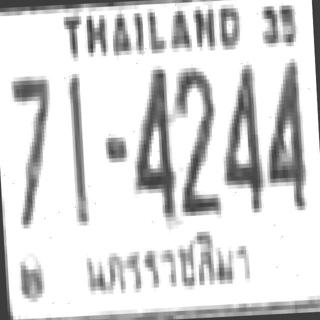N01: (65, 72, 88, 224)
N02: (173, 65, 218, 214)
N04: (126, 65, 174, 215), (260, 56, 306, 210), (216, 61, 262, 210)
N07: (8, 72, 54, 225), (8, 72, 52, 200)
P30: (76, 229, 262, 305)
